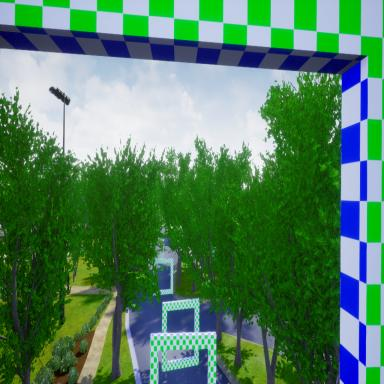gate: (161, 296, 200, 375)
